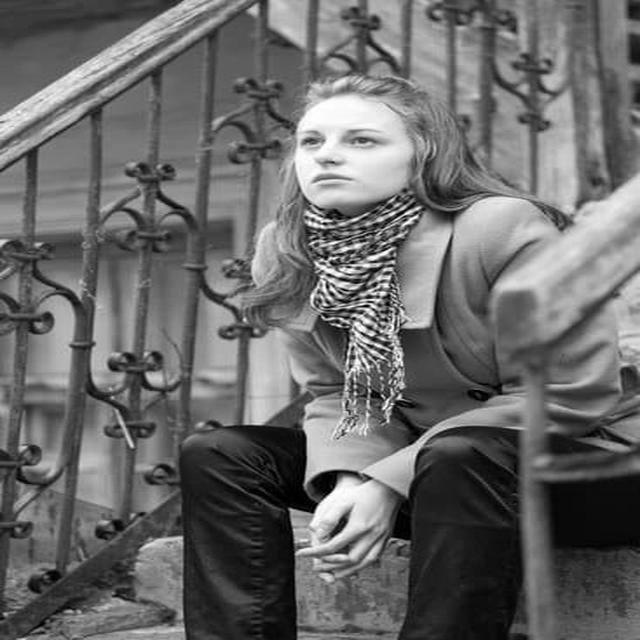Sadness: (297, 98, 393, 206)
